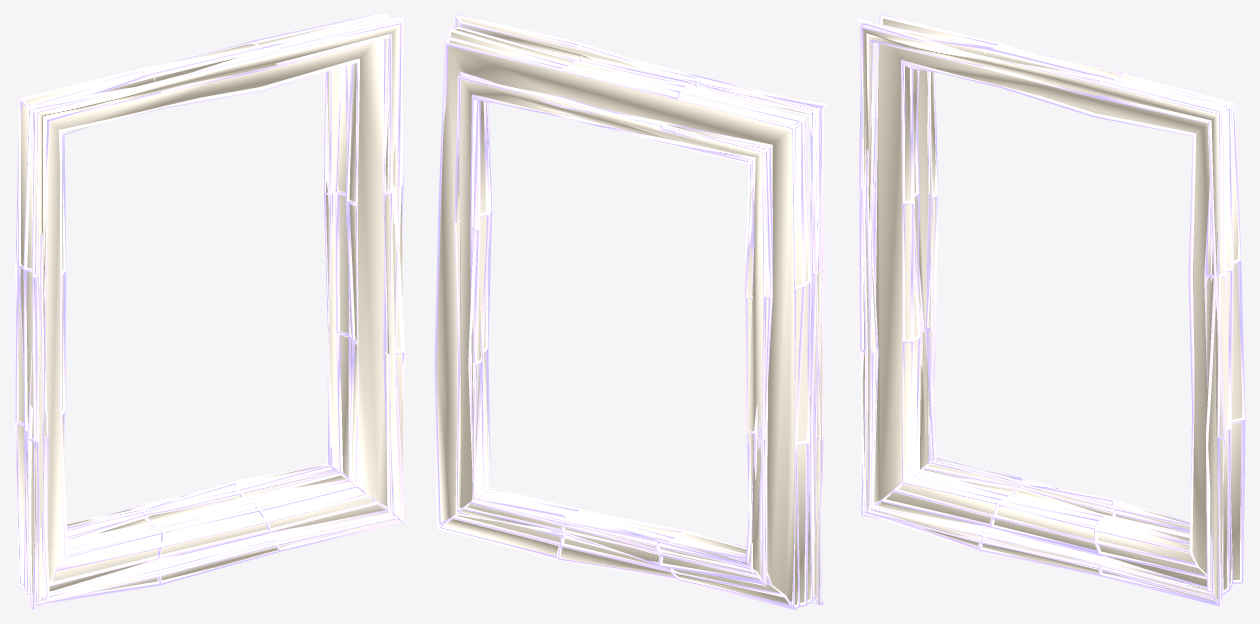
Rendered from galleryFrame.glb.
3 views of the same model, side by side, from view 1: azimuth 30°, elevation 25°; view 2: azimuth 150°, elevation 25°; view 3: azimuth 330°, elevation 25° (orthographic).
Parts seen in each view (by area): view 1: GalleryFrame, AccentFrame; view 2: GalleryFrame, AccentFrame; view 3: GalleryFrame, AccentFrame.
Part boxes in pixels (x1=…): GalleryFrame: x1=17, y1=18, x2=402, y2=606; AccentFrame: x1=14, y1=14, x2=405, y2=609; GalleryFrame: x1=436, y1=19, x2=822, y2=604; AccentFrame: x1=434, y1=14, x2=827, y2=609; GalleryFrame: x1=862, y1=18, x2=1242, y2=601; AccentFrame: x1=856, y1=14, x2=1245, y2=608.
Size of the model in its own units: 1.71 by 2.2 by 0.2831.
